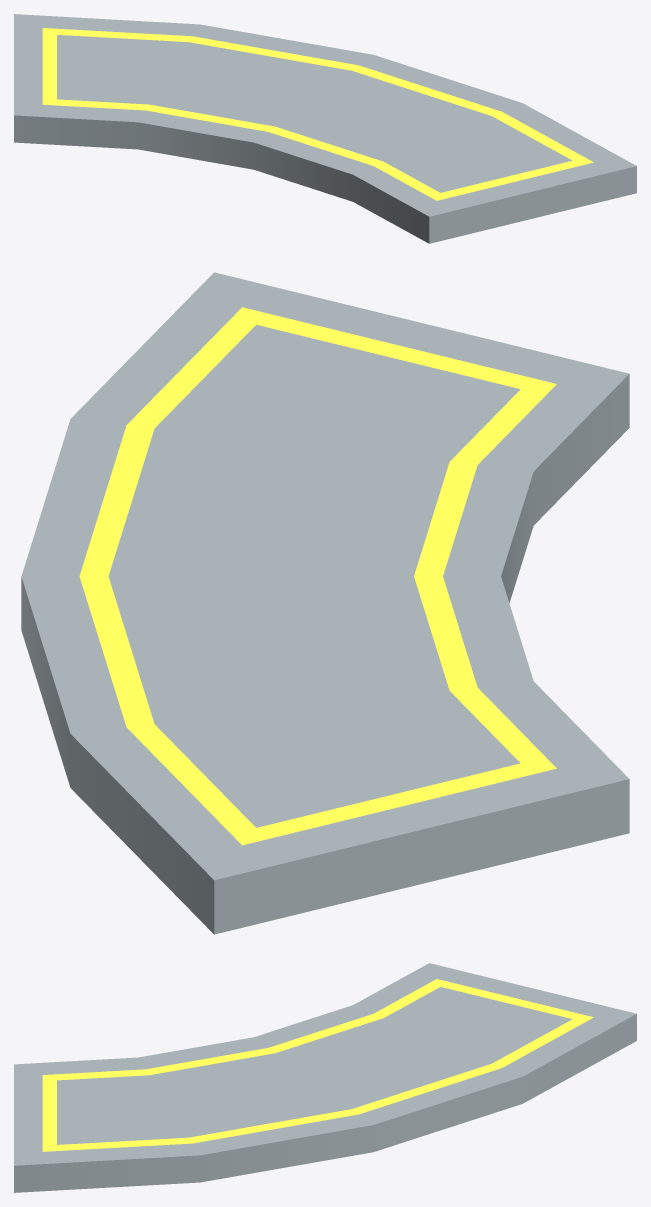
File: SM_Platform60DegreeBend_v0.fbx
The picture shows the model from 3 angles, top to bottom: view 1: azimuth 30°, elevation 25°; view 2: azimuth 150°, elevation 25°; view 3: azimuth 270°, elevation 25°; orthographic projection. The views are drawn at different scales.
Visible parts, largest first — view 1: SM_Platform60DegreeBend_v0; view 2: SM_Platform60DegreeBend_v0; view 3: SM_Platform60DegreeBend_v0.
Part boxes in pixels (x1=…): SM_Platform60DegreeBend_v0: x1=14, y1=14, x2=636, y2=243; SM_Platform60DegreeBend_v0: x1=21, y1=272, x2=629, y2=934; SM_Platform60DegreeBend_v0: x1=14, y1=963, x2=636, y2=1192.
Size of the model in its own units: 2 by 0.125 by 2.6.
